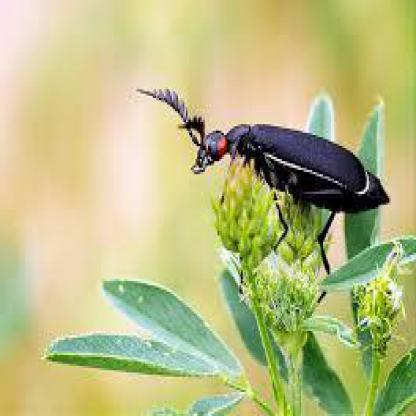blister beetle: (137, 85, 391, 212)
